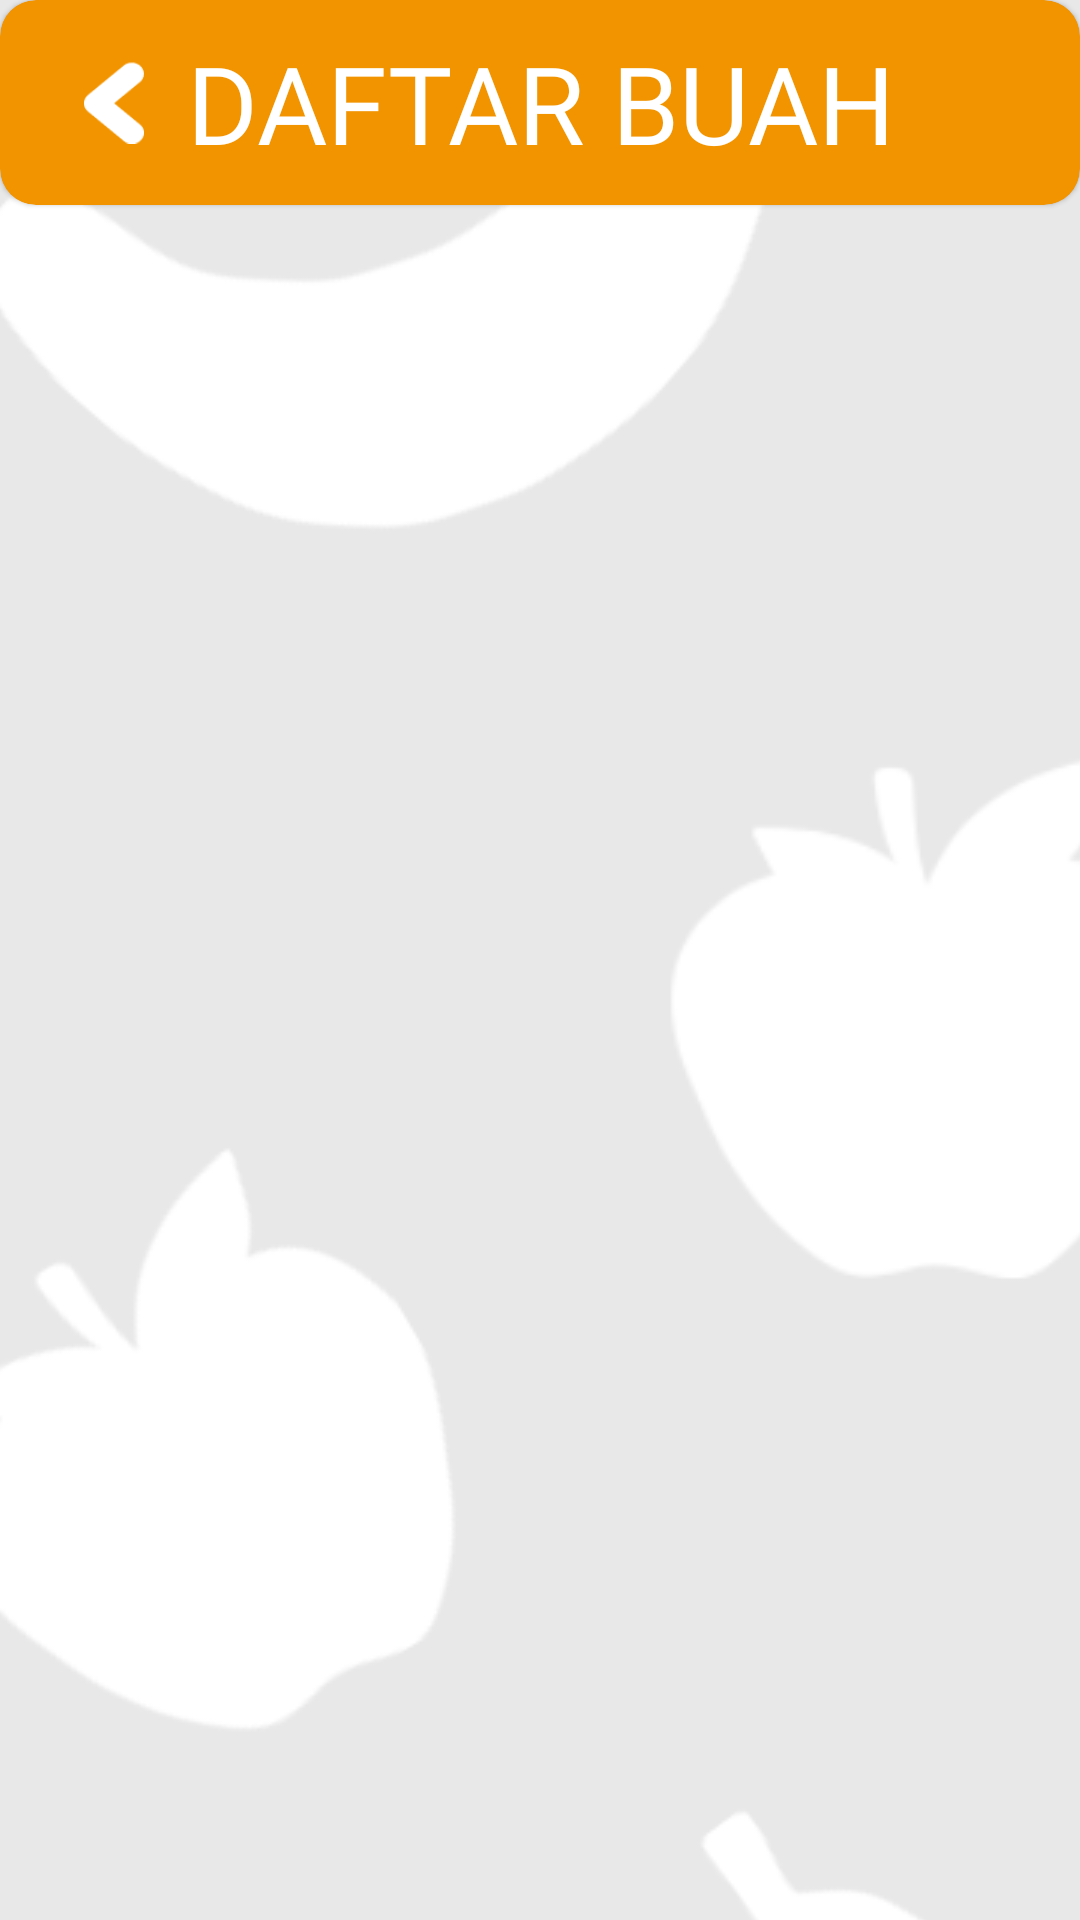

Point at icon controls on the screen. Image size 1080 x 1920, points as [x,y].
back: [114,103]
